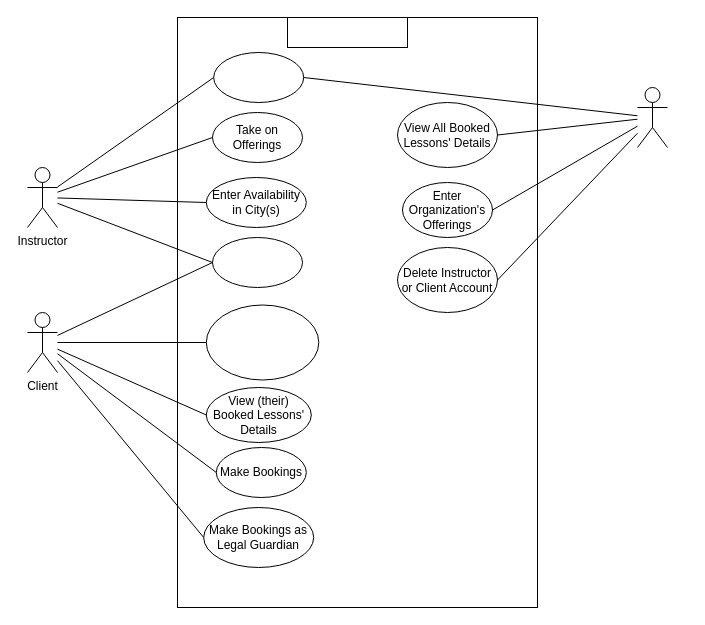
The diagram is 705 pixels wide and 625 high, and some of its shapes have lost their labels. The box of each missing label's shape, as (x1, y1, x2, y2) in pixels:
Administrator: (636, 86, 668, 148)
BookingApp: (286, 16, 408, 48)
Register to System: (212, 236, 302, 288)
View All Available Offerings: (213, 52, 304, 102)
View Instructor-Assigned Lessons: (205, 304, 319, 380)
